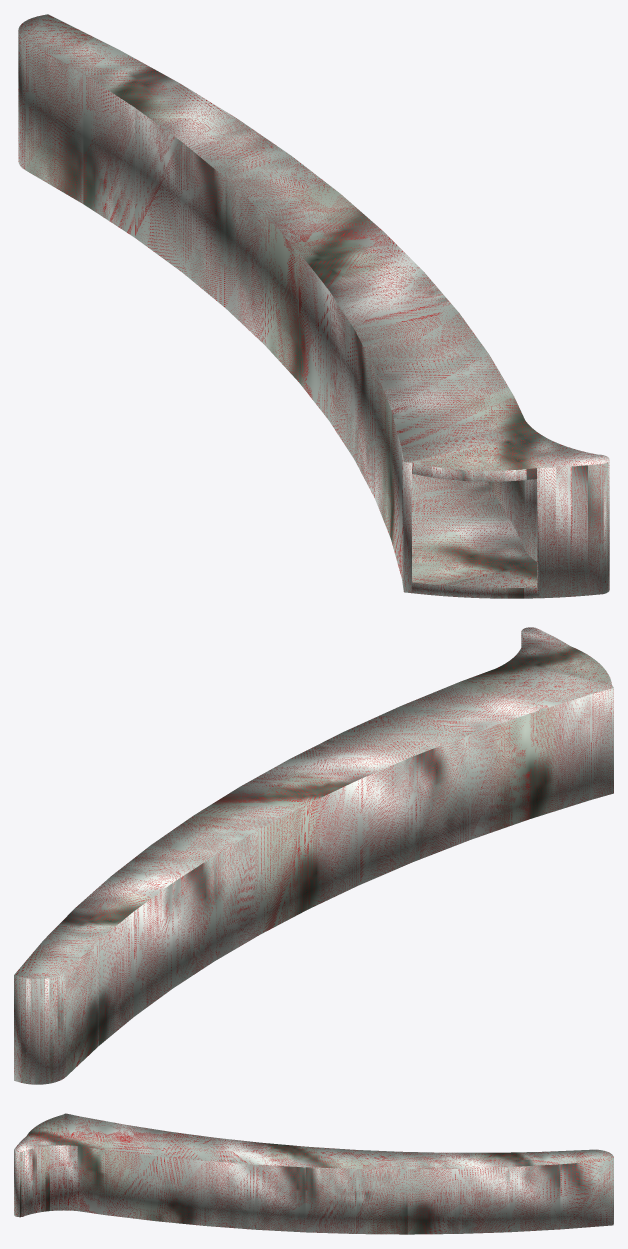
Rendered from original-4.obj.
The picture shows the model from 3 angles, top to bottom: view 1: azimuth 30°, elevation 25°; view 2: azimuth 150°, elevation 25°; view 3: azimuth 270°, elevation 25°; orthographic projection. The views are drawn at different scales.
Parts seen in each view (by area): view 1: #ID34; view 2: #ID34; view 3: #ID34.
Boxes of the visible parts, x1,y1,x2,y2 form: #ID34: (18,14,609,598); #ID34: (14,627,613,1084); #ID34: (14,1113,613,1234).
Bounding box in the file's own units: 0.2536 × 0.1376 × 1.15.
